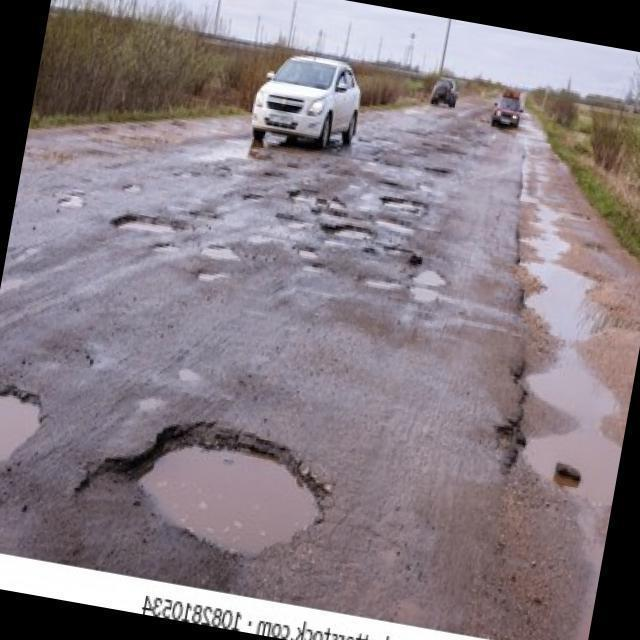pothole: (123, 409, 340, 573), (0, 378, 50, 475), (109, 207, 184, 243), (318, 215, 378, 244), (359, 267, 407, 294), (380, 191, 429, 215), (412, 263, 451, 292), (310, 202, 361, 224), (201, 240, 241, 265), (406, 284, 444, 306), (56, 186, 88, 212), (195, 265, 231, 287), (286, 185, 320, 207), (382, 238, 417, 258), (274, 212, 304, 229), (301, 258, 329, 276), (297, 243, 322, 263), (244, 190, 264, 205), (425, 165, 451, 176), (330, 195, 349, 210), (124, 179, 141, 195), (262, 169, 285, 180)
